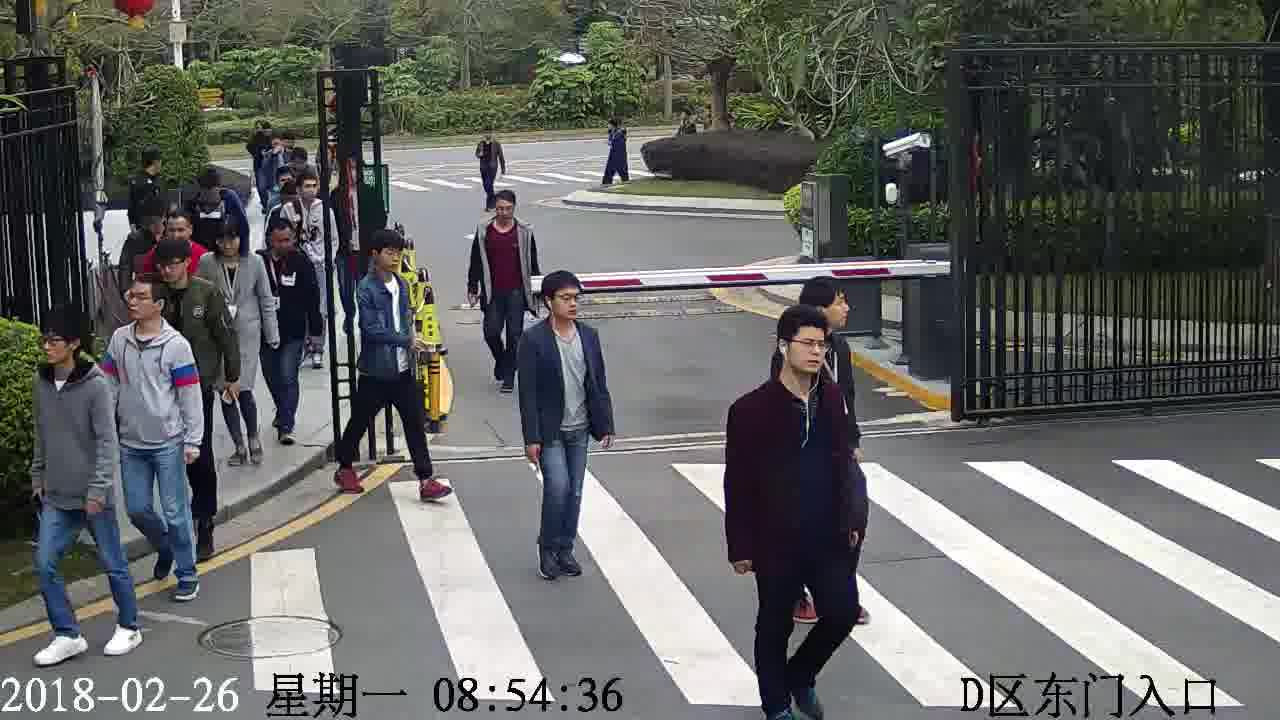face: (782, 324, 832, 374), (817, 288, 858, 329), (544, 283, 582, 323), (38, 325, 73, 366), (125, 282, 157, 322), (375, 243, 405, 278), (490, 194, 517, 225)
person: (726, 302, 850, 437), (32, 305, 109, 398), (111, 273, 191, 358), (519, 271, 600, 352), (790, 276, 857, 371), (153, 236, 218, 305), (201, 214, 265, 278), (353, 226, 412, 295), (257, 214, 313, 273), (158, 204, 213, 261), (477, 189, 536, 240), (122, 196, 171, 255), (281, 169, 337, 219), (188, 165, 244, 211), (131, 146, 167, 192), (279, 146, 319, 177), (247, 114, 278, 143), (475, 126, 506, 151)
